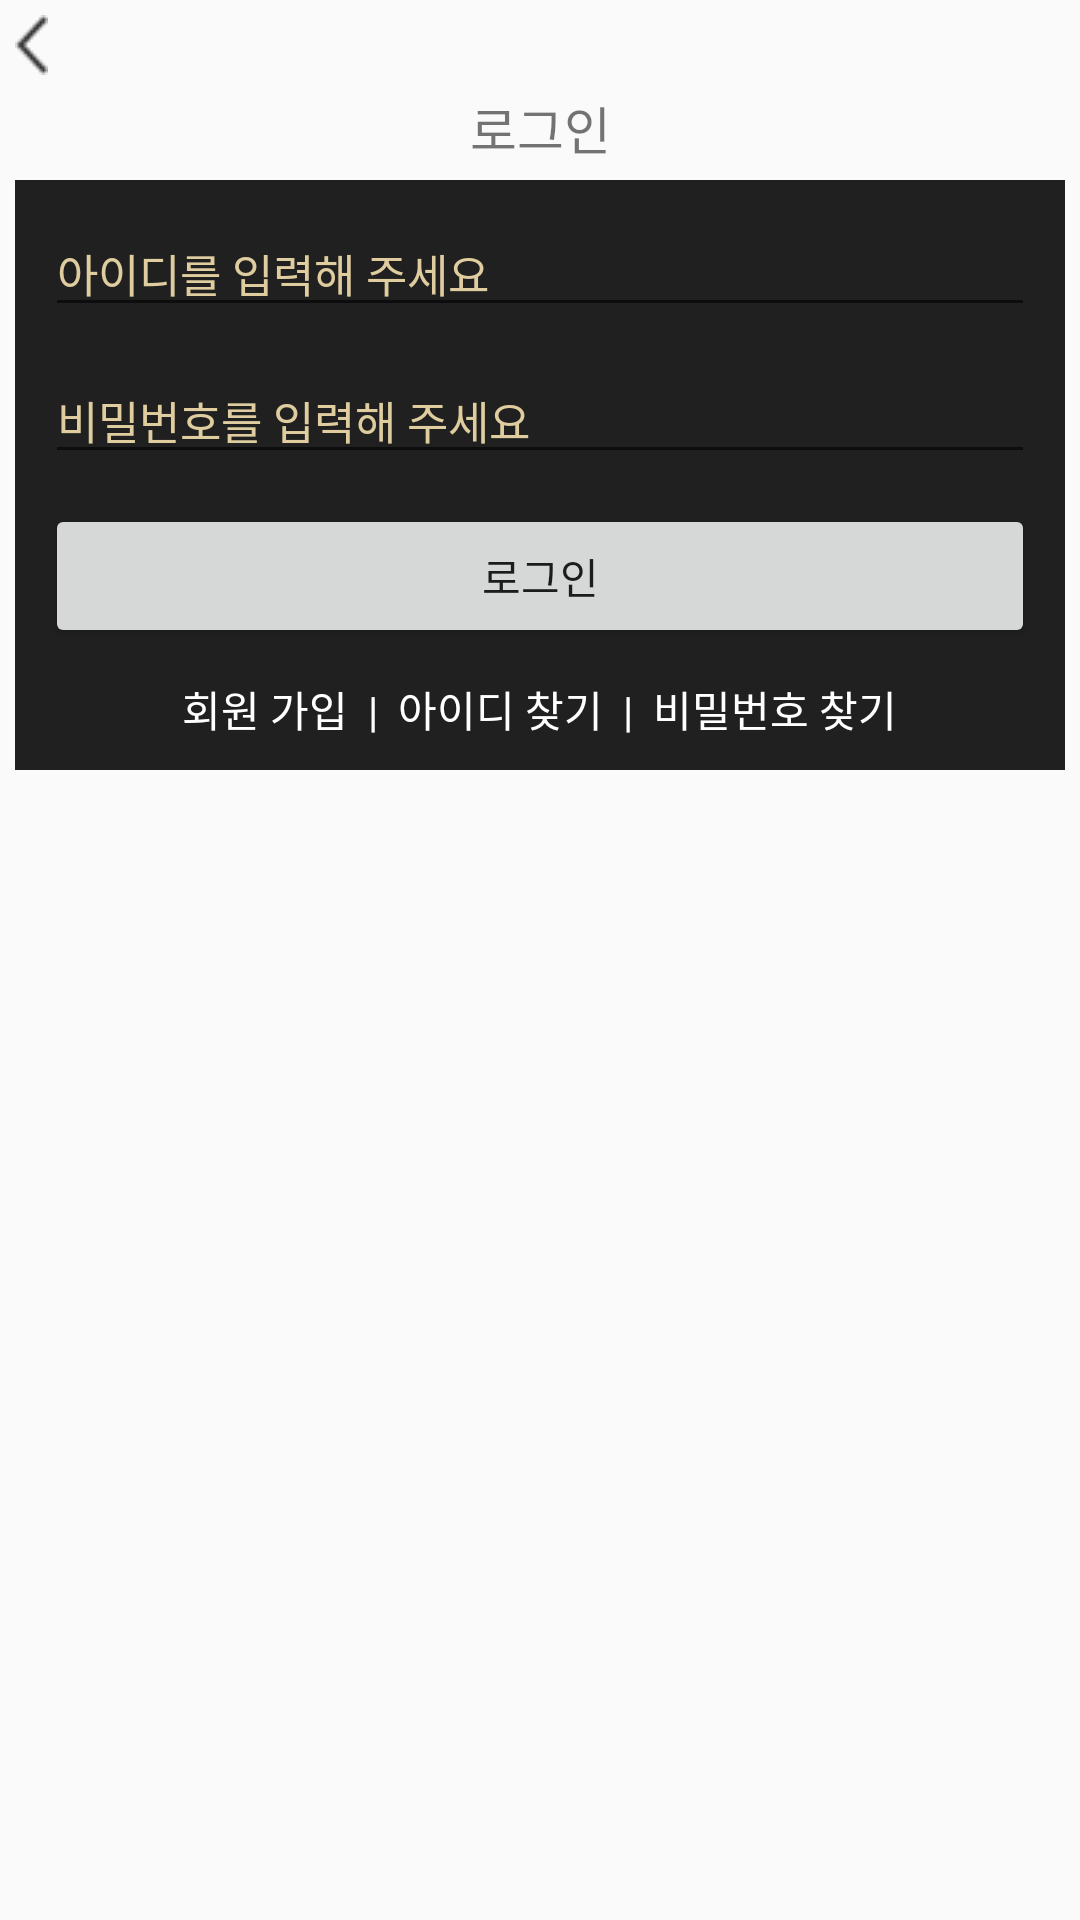

Icon bounding boxes for this 1080w x 1920h phone screenshot, format Rect(x1, y1, x2, y2):
pre: Rect(15, 15, 48, 75)
